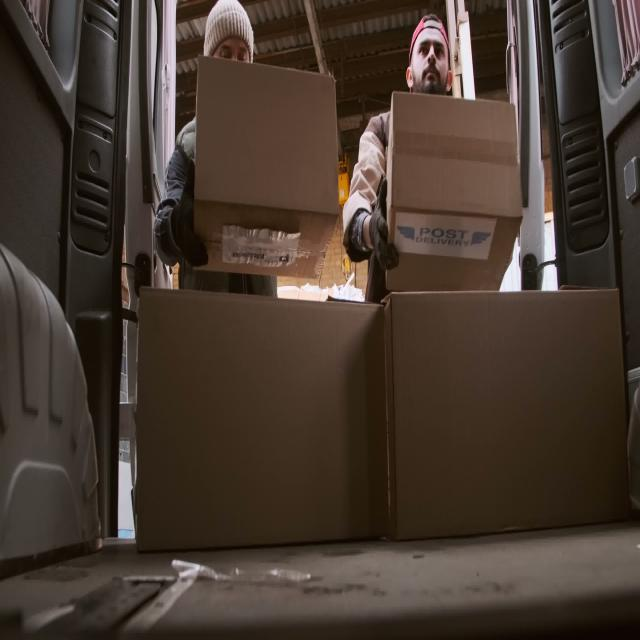counting-the-number-of-boxes: (136, 288, 389, 555), (384, 290, 629, 543), (194, 54, 341, 281), (384, 91, 523, 293)
